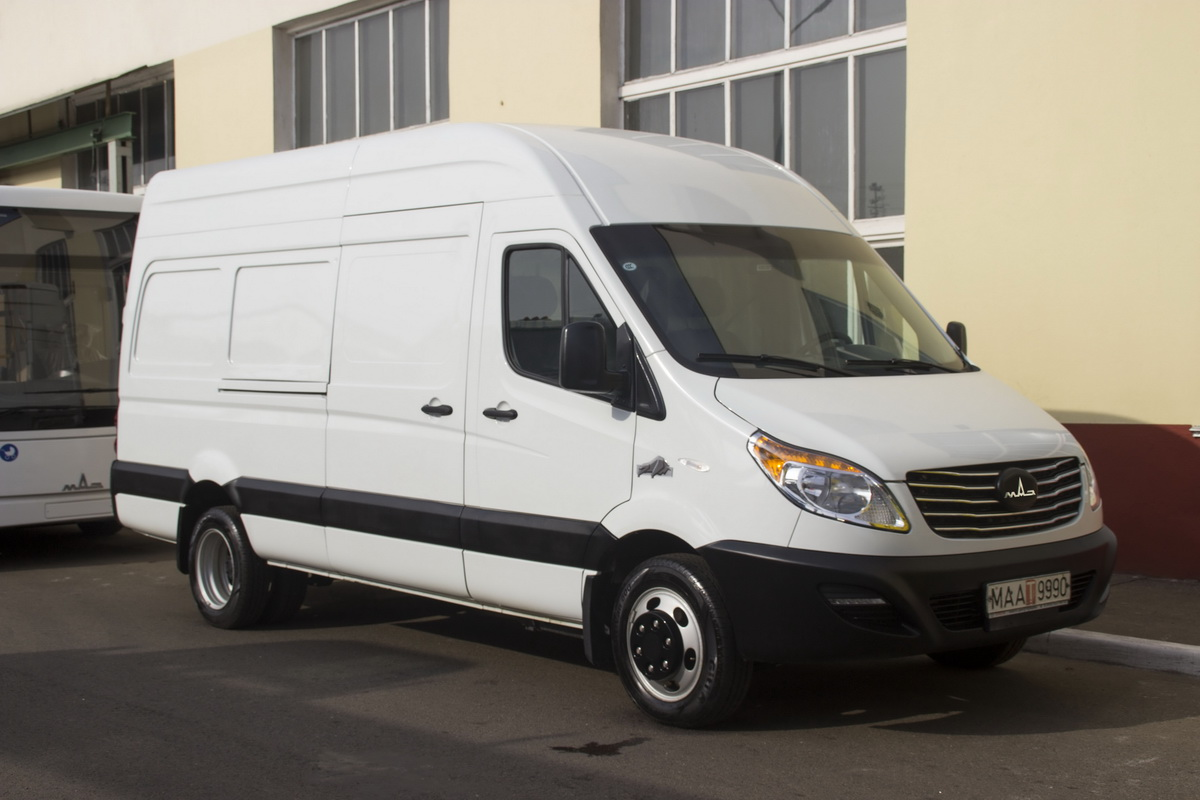van: (112, 120, 1112, 724)
